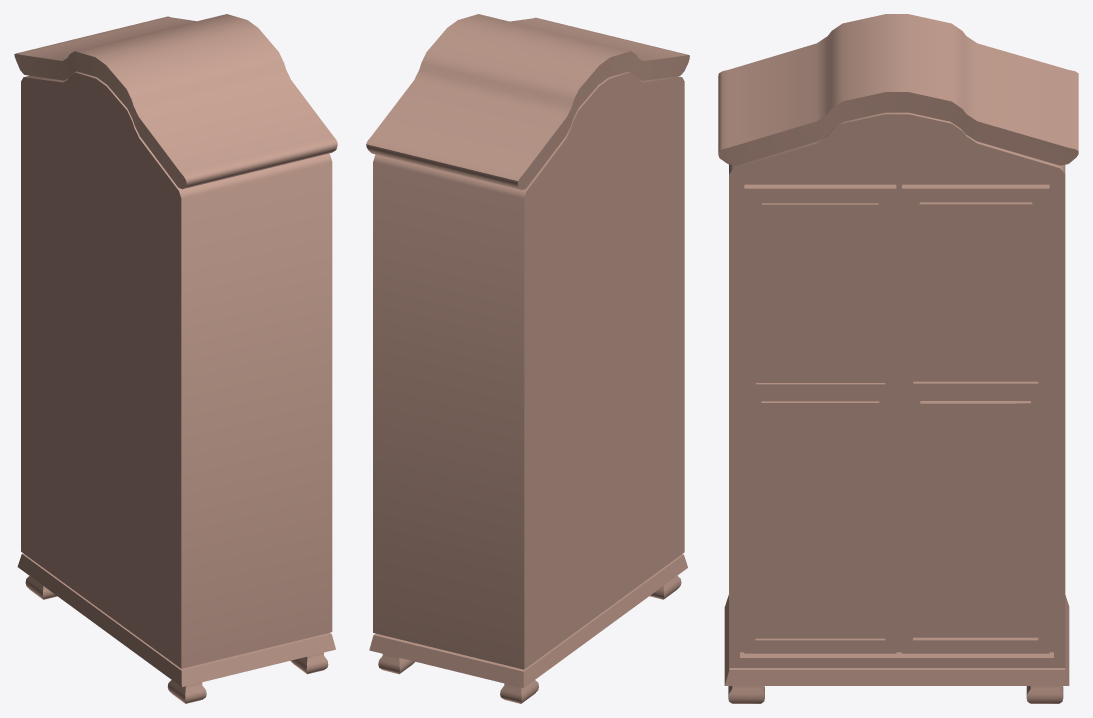
Rendered from armoire.fbx.
The picture shows the model from 3 angles, left to right: view 1: azimuth 30°, elevation 25°; view 2: azimuth 150°, elevation 25°; view 3: azimuth 270°, elevation 25°; orthographic projection. The views are drawn at different scales.
Visible parts, largest first — view 1: armoire; view 2: armoire; view 3: armoire.
Boxes of the visible parts, box(x1,y1,x2,y2) form: armoire: box(14, 14, 337, 703); armoire: box(366, 14, 689, 703); armoire: box(718, 14, 1078, 703).
Bounding box in the file's own units: 153 × 555 × 295.
